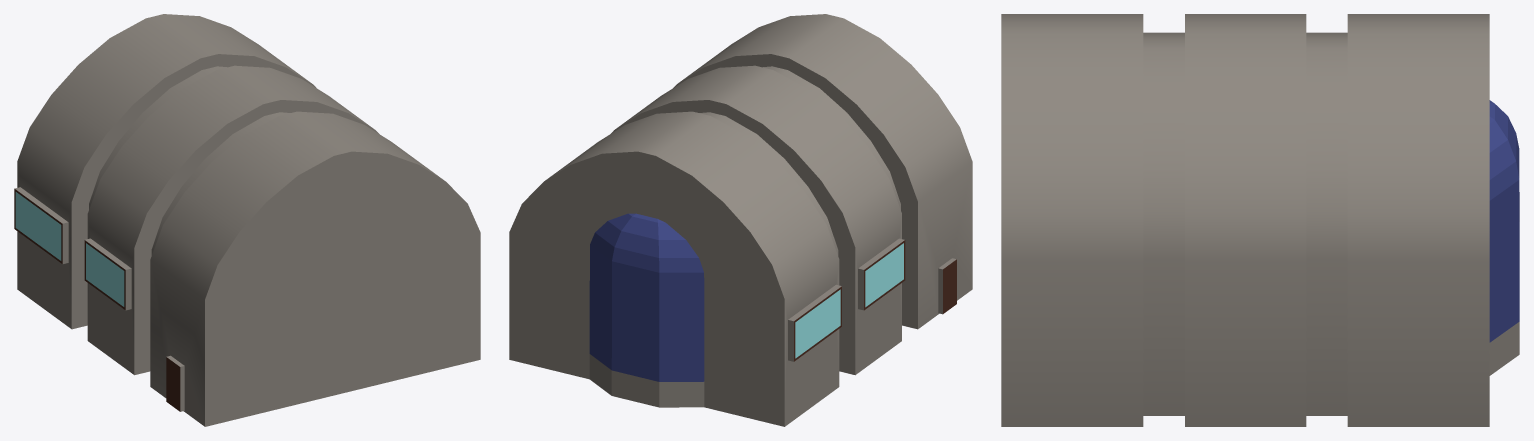
Rendered from Sala_Habilidad__con_ventanas_Pic_du_Midi_02.fbx.
The picture shows the model from 3 angles, left to right: view 1: azimuth 30°, elevation 25°; view 2: azimuth 150°, elevation 25°; view 3: azimuth 270°, elevation 25°; orthographic projection. The views are drawn at different scales.
Visible parts, largest first — view 1: Sala_habilidad; view 2: Sala_habilidad, Podio_habilidad; view 3: Sala_habilidad, Podio_habilidad.
Boxes of the visible parts, x1,y1,x2,y2 form: Sala_habilidad: (14, 14, 480, 426); Sala_habilidad: (509, 14, 972, 426); Podio_habilidad: (589, 354, 704, 407); Sala_habilidad: (1001, 14, 1519, 426); Podio_habilidad: (1489, 322, 1519, 375).
Bounding box in the file's own units: 648 × 528 × 796.
